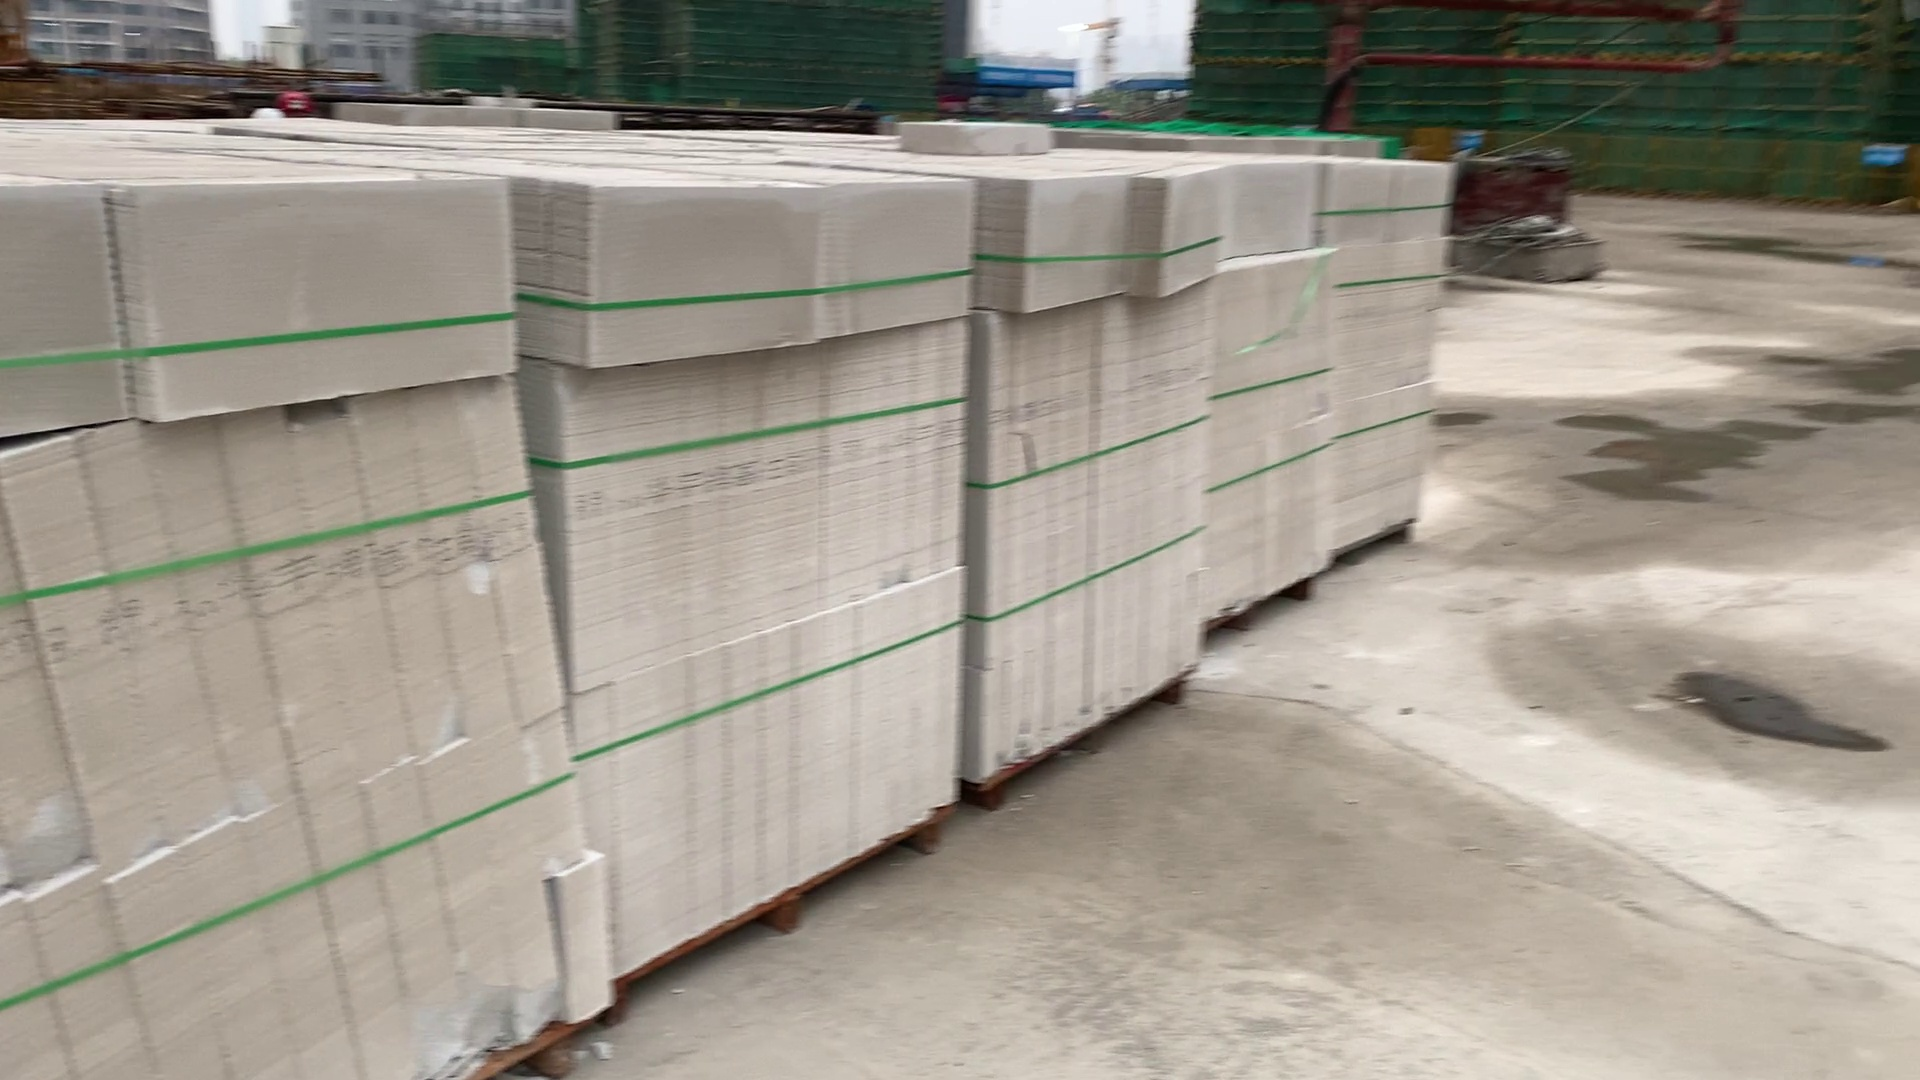brickwork: (1, 160, 591, 1080), (549, 181, 969, 967), (980, 157, 1212, 757), (1207, 167, 1327, 642), (1335, 165, 1439, 564)
